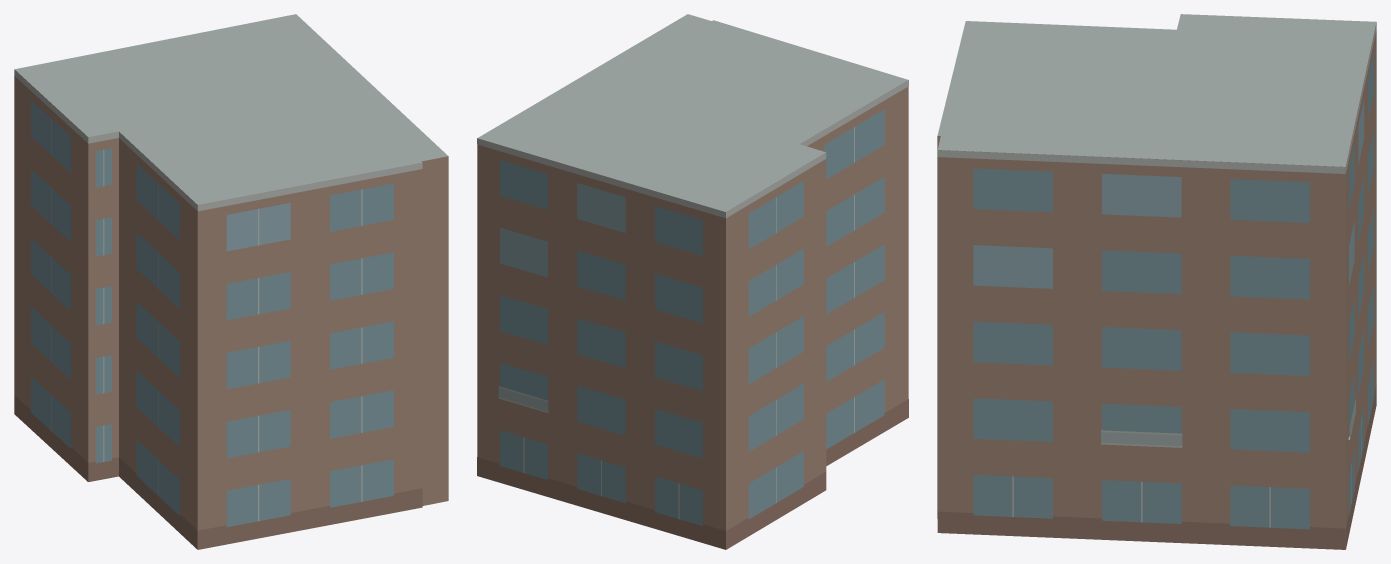
Rendered from survey-upis-32658773.glb.
3 renders of one model, left to right at view 1: azimuth 30°, elevation 25°; view 2: azimuth 150°, elevation 25°; view 3: azimuth 270°, elevation 25°, orthographic. The views are drawn at different scales.
Parts seen in each view (by area): view 1: survey-upis-32658773.tmp; view 2: survey-upis-32658773.tmp; view 3: survey-upis-32658773.tmp.
Part boxes in pixels (left/top/right/bottom): survey-upis-32658773.tmp: left=14, top=14, right=448, bottom=549; survey-upis-32658773.tmp: left=477, top=14, right=908, bottom=549; survey-upis-32658773.tmp: left=937, top=14, right=1376, bottom=549.
Size of the model in its own units: 11.29 by 13.17 by 13.7.
